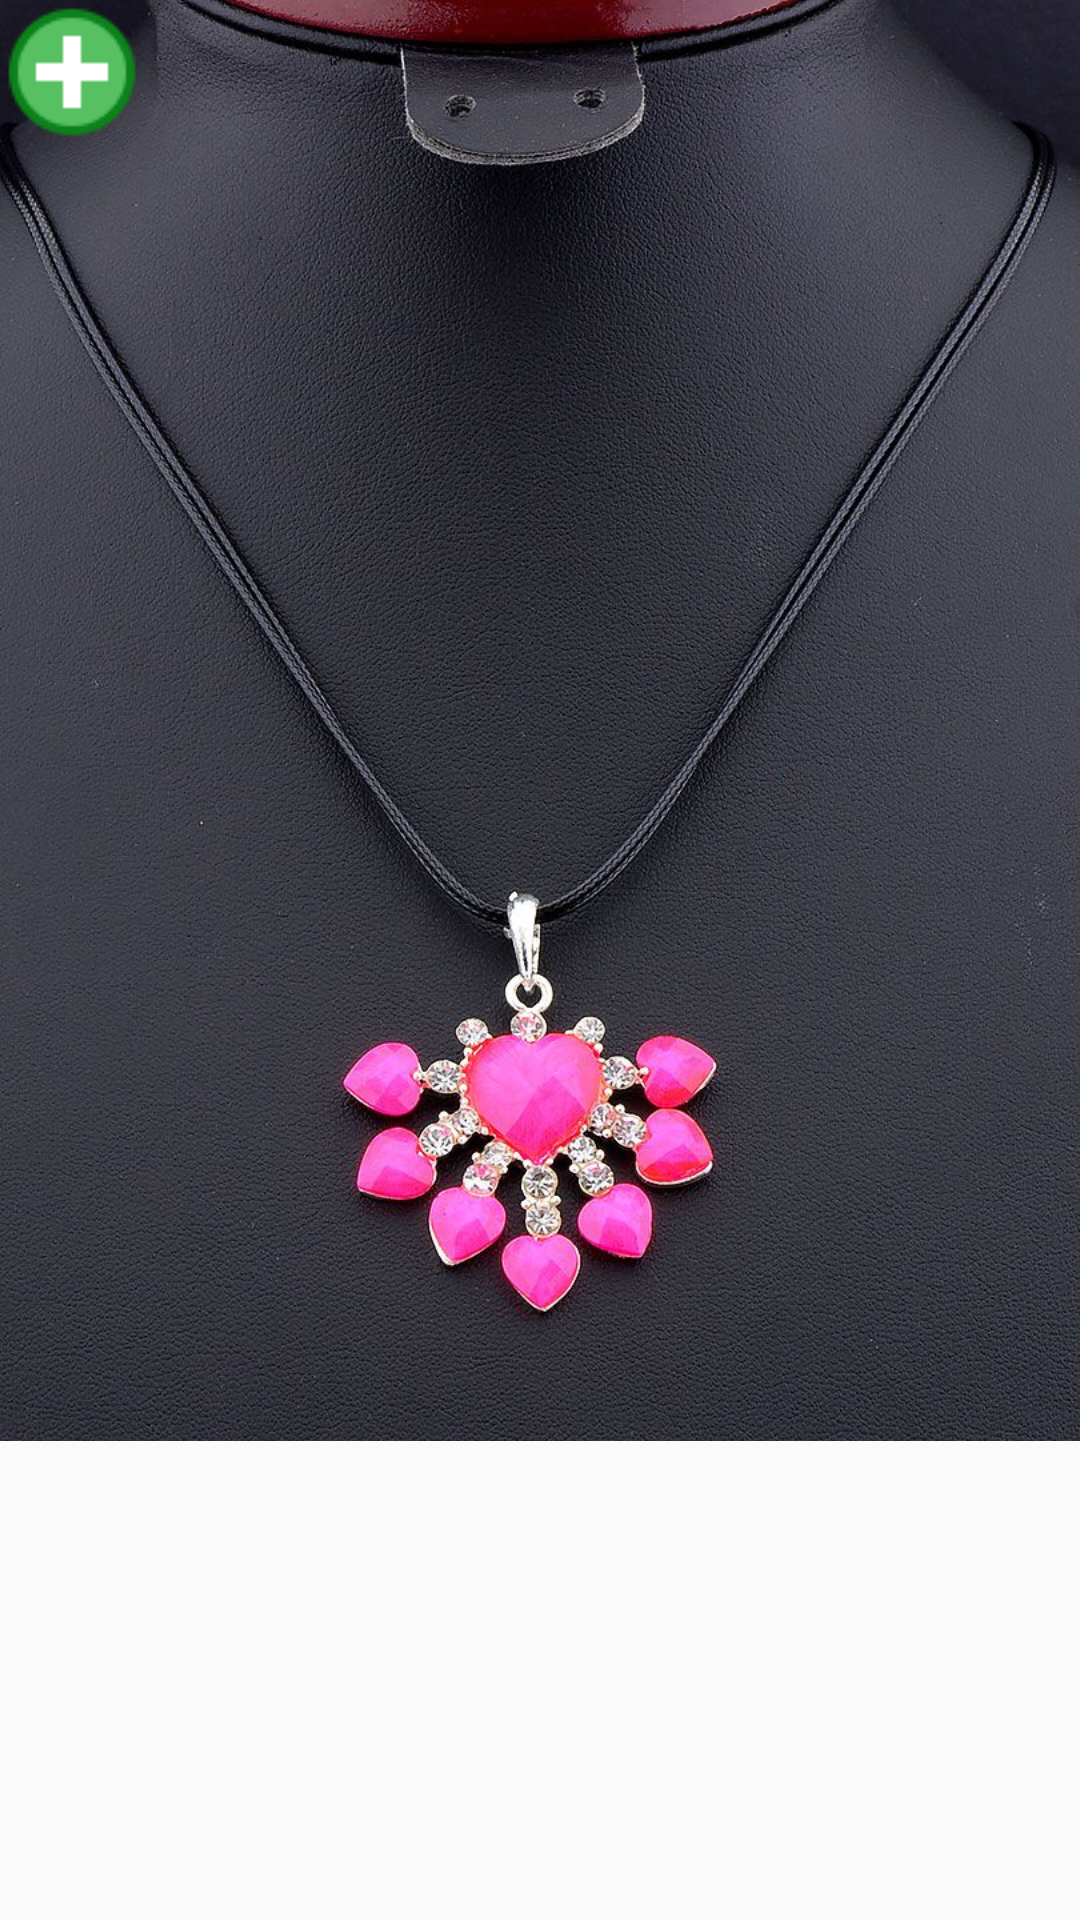

Where icons sit on this 1080×1920 app screen, as (x1, y1, x2, y2):
add: (0, 0, 144, 144)
